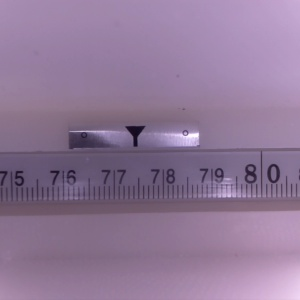0: (266, 164, 280, 183)
5: (14, 171, 24, 186)
6: (65, 169, 76, 185)
7: (101, 169, 111, 185), (116, 169, 126, 185), (49, 170, 59, 185), (198, 168, 208, 183), (150, 168, 159, 184), (0, 171, 7, 186)
8: (244, 165, 256, 183), (165, 168, 175, 184)
9: (214, 168, 224, 183)
finger: (123, 126, 145, 147)
